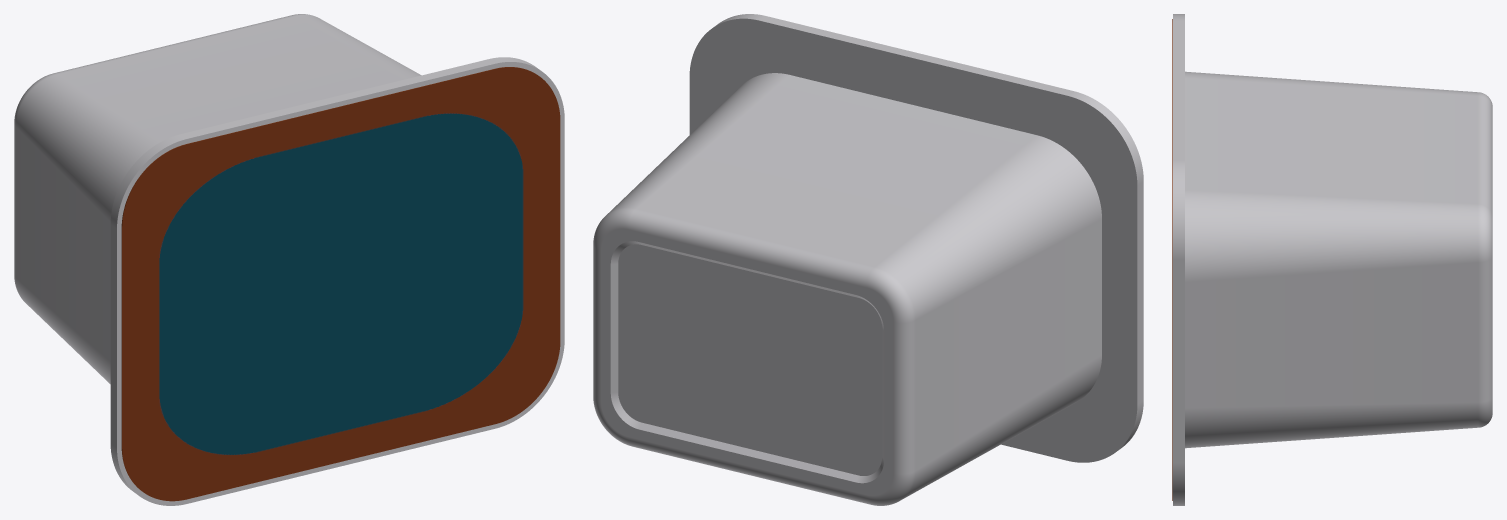
The picture shows the model from 3 angles, left to right: view 1: azimuth 30°, elevation 25°; view 2: azimuth 150°, elevation 25°; view 3: azimuth 270°, elevation 25°; orthographic projection. The views are drawn at different scales.
Visible parts, largest first — view 1: heinz_snap_pot_visual; view 2: heinz_snap_pot_visual; view 3: heinz_snap_pot_visual.
Boxes of the visible parts, x1,y1,x2,y2 form: heinz_snap_pot_visual: (14,14,564,505); heinz_snap_pot_visual: (593,14,1143,505); heinz_snap_pot_visual: (1172,14,1492,505).
Size of the model in its own units: 0.095 by 0.074 by 0.0635.
2 materials, 1 textured.
